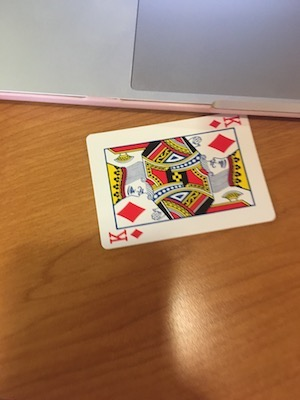KingOfDiamonds: (81, 106, 283, 263)
